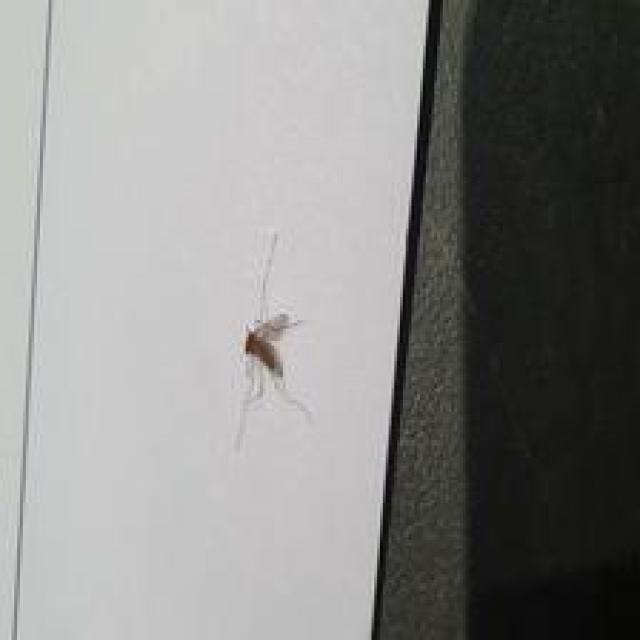Culex: (230, 228, 313, 452)
